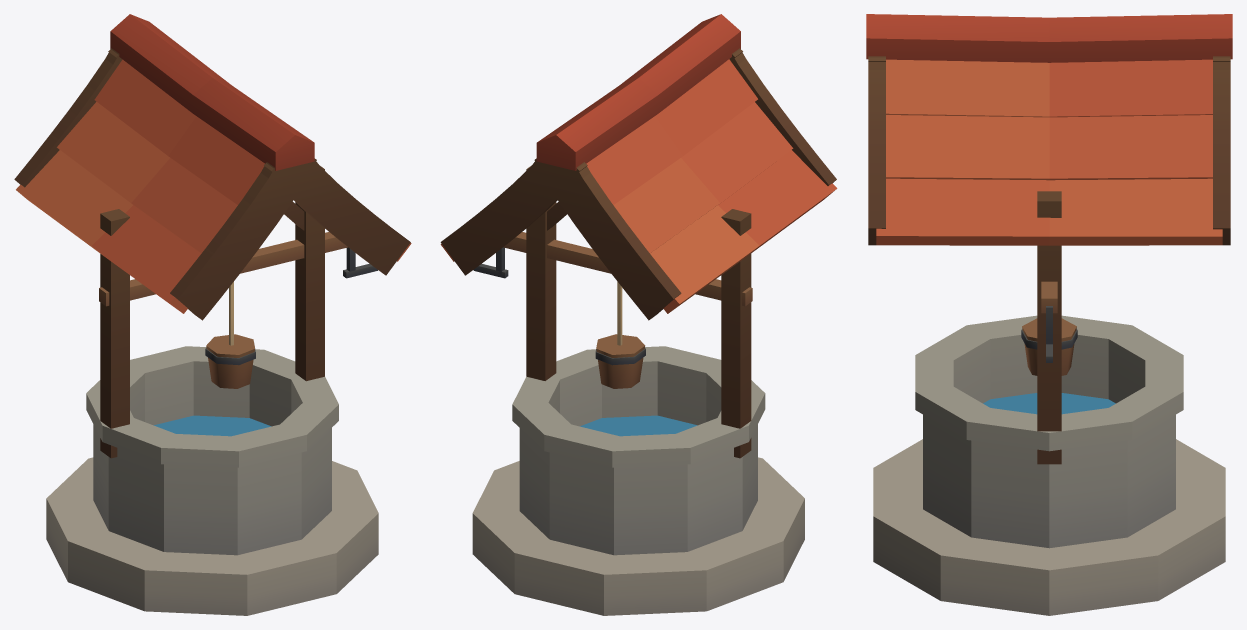
The model's file is well.glb.
3 renders of one model, left to right at view 1: azimuth 30°, elevation 25°; view 2: azimuth 150°, elevation 25°; view 3: azimuth 270°, elevation 25°, orthographic. The views are drawn at different scales.
Visible parts, largest first — view 1: well; view 2: well; view 3: well.
Boxes of the visible parts, x1,y1,x2,y2 form: well: [14, 14, 411, 615]; well: [440, 14, 837, 615]; well: [866, 14, 1232, 615].
Bounding box in the file's own units: 9.8 × 14.35 × 9.1.
Materials: 1 (1 with a texture image).
